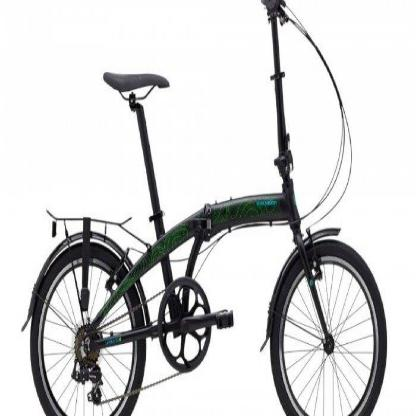Bike: (23, 5, 392, 416)
